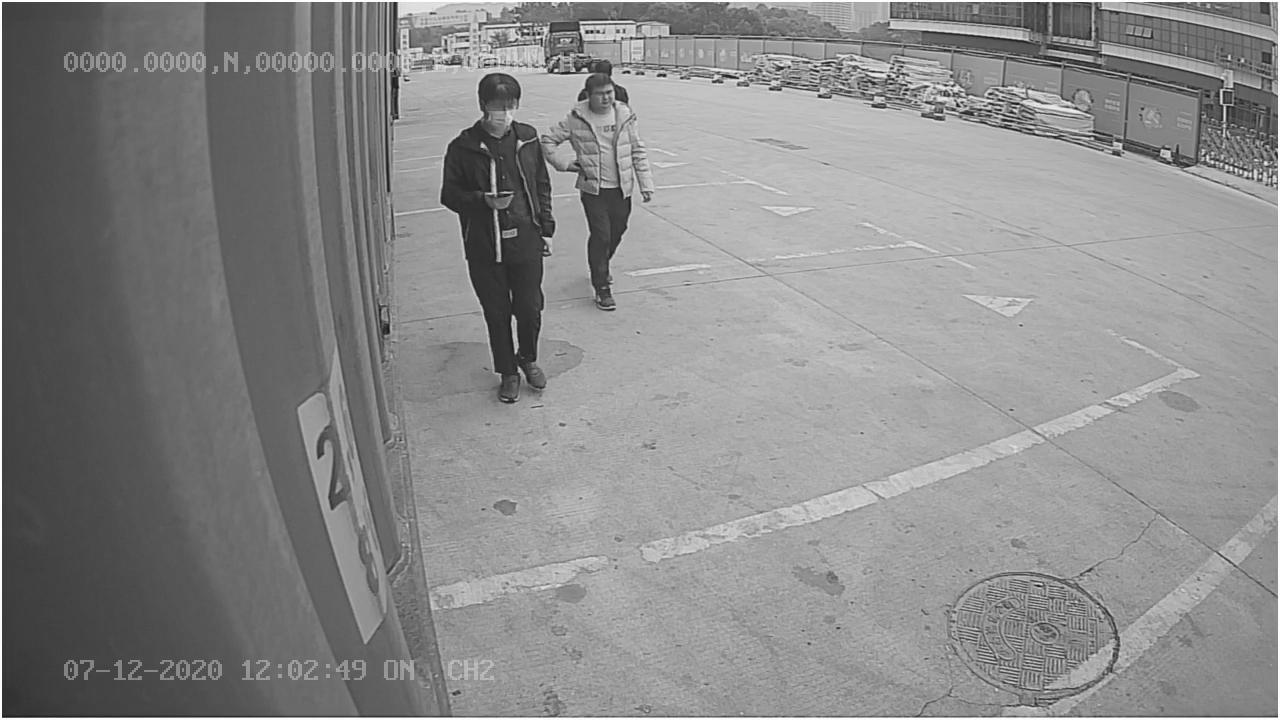person: (439, 67, 557, 403)
